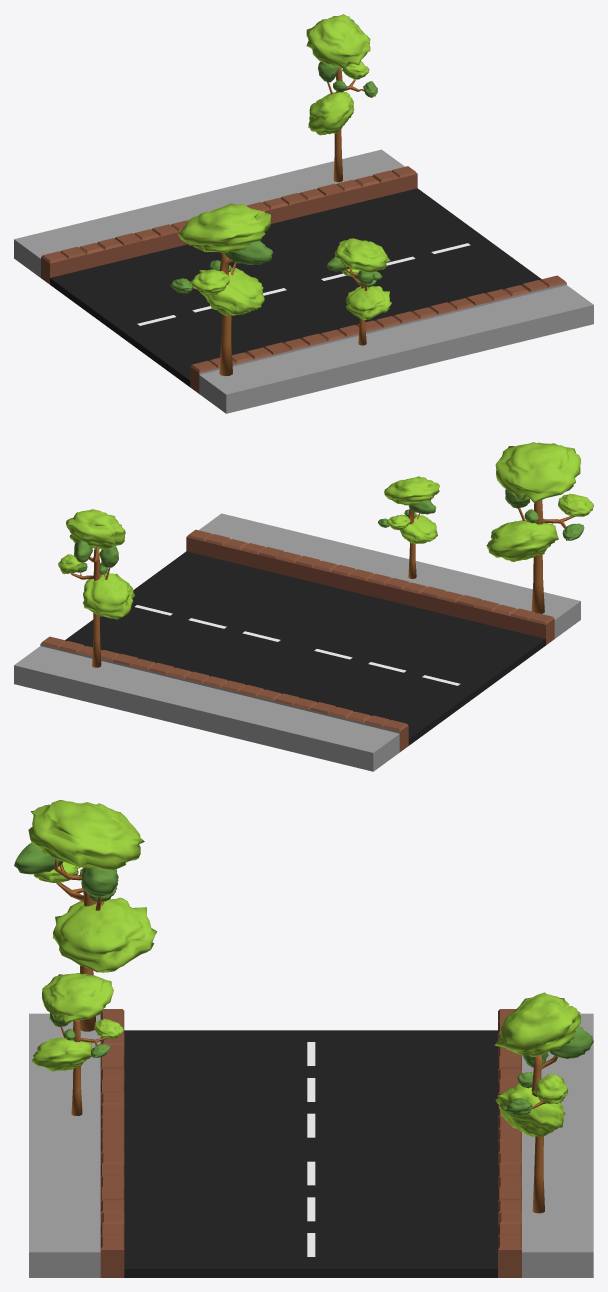
Rendered from road_H_3_Original.fbx.
The picture shows the model from 3 angles, top to bottom: view 1: azimuth 30°, elevation 25°; view 2: azimuth 150°, elevation 25°; view 3: azimuth 270°, elevation 25°; orthographic projection. The views are drawn at different scales.
Parts seen in each view (by area): view 1: Road_H_3; view 2: Road_H_3; view 3: Road_H_3.
Part boxes in pixels (x1,y1,x2,y2): Road_H_3: [14, 14, 593, 413]; Road_H_3: [14, 442, 593, 771]; Road_H_3: [14, 800, 593, 1277].
Bounding box in the file's own units: 107 × 47.92 × 103.
